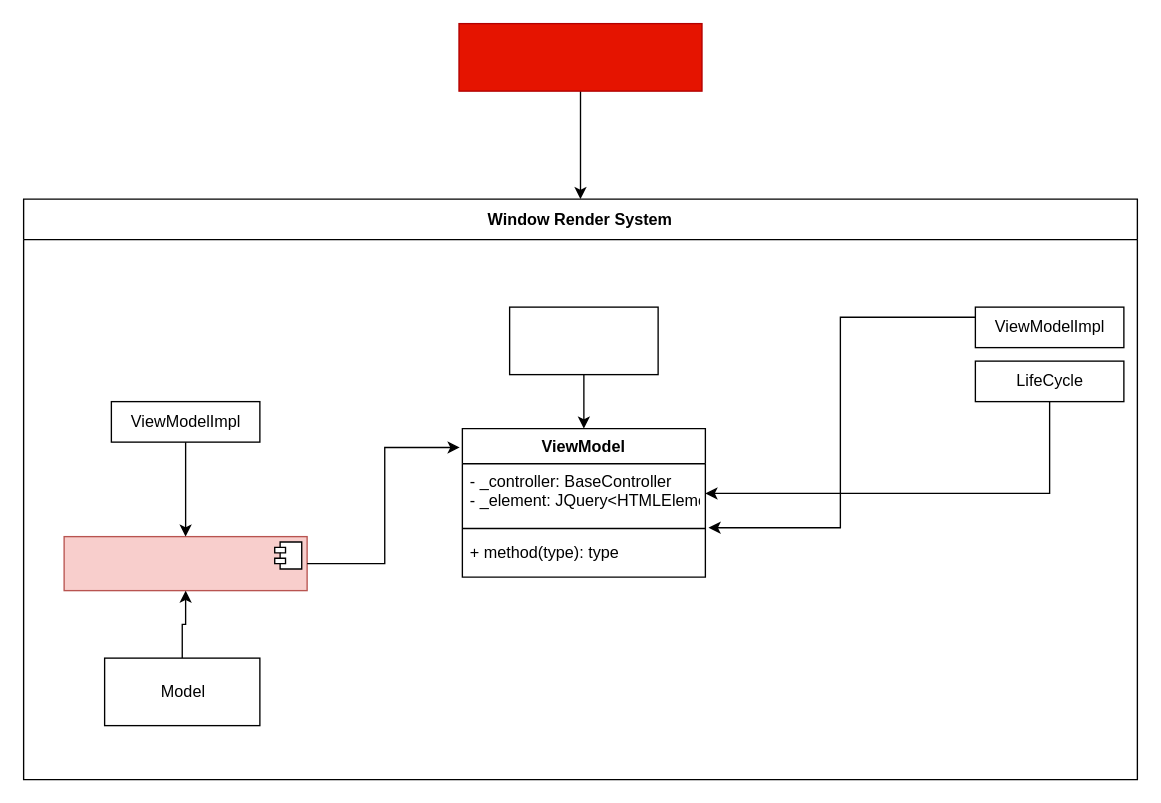
The diagram is 1161 pixels wide and 803 high, and some of its shapes have lost their labels. Each missing label, with the centre of its shape:
"BaseController" goes at point 185,563.
"EventEmitter" goes at point 583,340.
"WindowCreator.onLoad()" goes at point 580,56.
